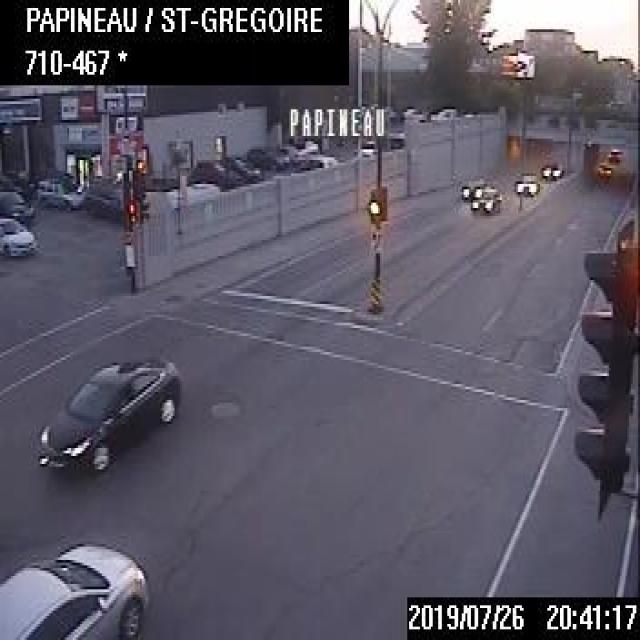vehicle: (33, 352, 180, 472), (0, 536, 151, 637), (34, 175, 83, 214), (189, 157, 240, 187), (0, 188, 38, 225), (0, 216, 35, 253), (244, 145, 288, 171), (219, 153, 259, 181), (456, 176, 488, 201), (470, 192, 502, 213), (539, 159, 565, 181), (513, 174, 538, 195), (594, 159, 612, 179), (606, 146, 621, 162)
